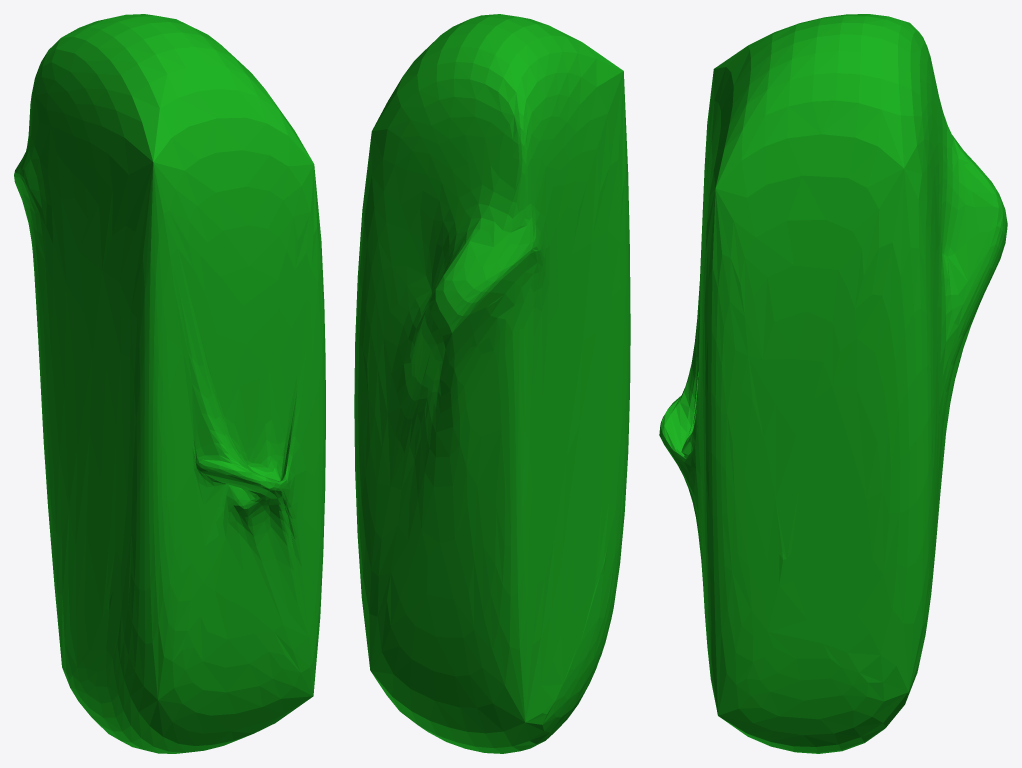
The picture shows the model from 3 angles, left to right: view 1: azimuth 30°, elevation 25°; view 2: azimuth 150°, elevation 25°; view 3: azimuth 270°, elevation 25°; orthographic projection. The views are drawn at different scales.
Parts seen in each view (by area): view 1: 476_Cube.1931; view 2: 476_Cube.1931; view 3: 476_Cube.1931.
Boxes of the visible parts, x1,y1,x2,y2 form: 476_Cube.1931: (14,14,325,753); 476_Cube.1931: (354,14,630,753); 476_Cube.1931: (659,14,1007,753).
Size of the model in its own units: 3.34 by 11.48 by 5.09.
